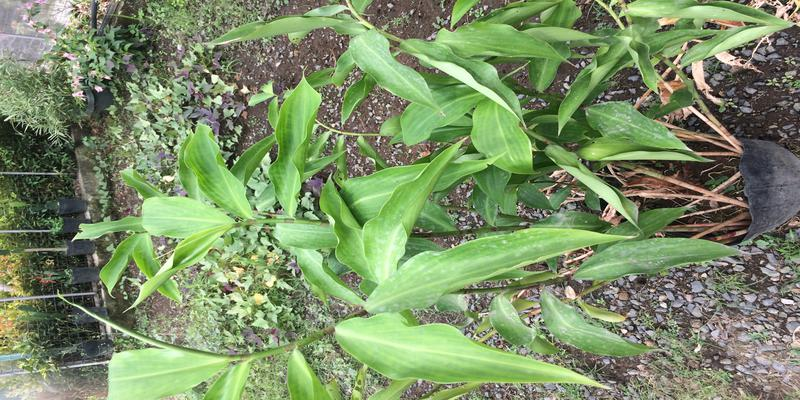Insulin: (294, 44, 741, 374)
